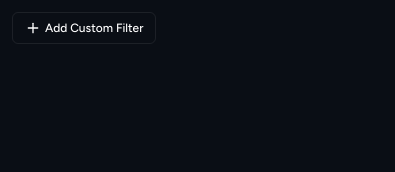
Test: CustomFilterBuilder › removes a filter row
Step 1. Click the button with test id "add-custom-filter" → [84, 28], box [12,12,156,44]
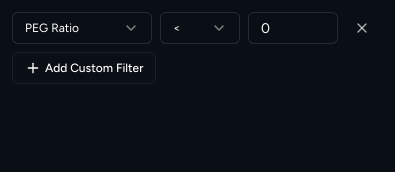
Check: the element with test id "custom-filter-row" is shown, box [12,12,378,44]
Step 2. Click the button with test id "custom-filter-remove" → [362, 28], box [346,12,378,44]
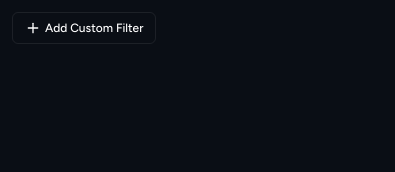
Check: the element with test id "custom-filter-row" is gone
